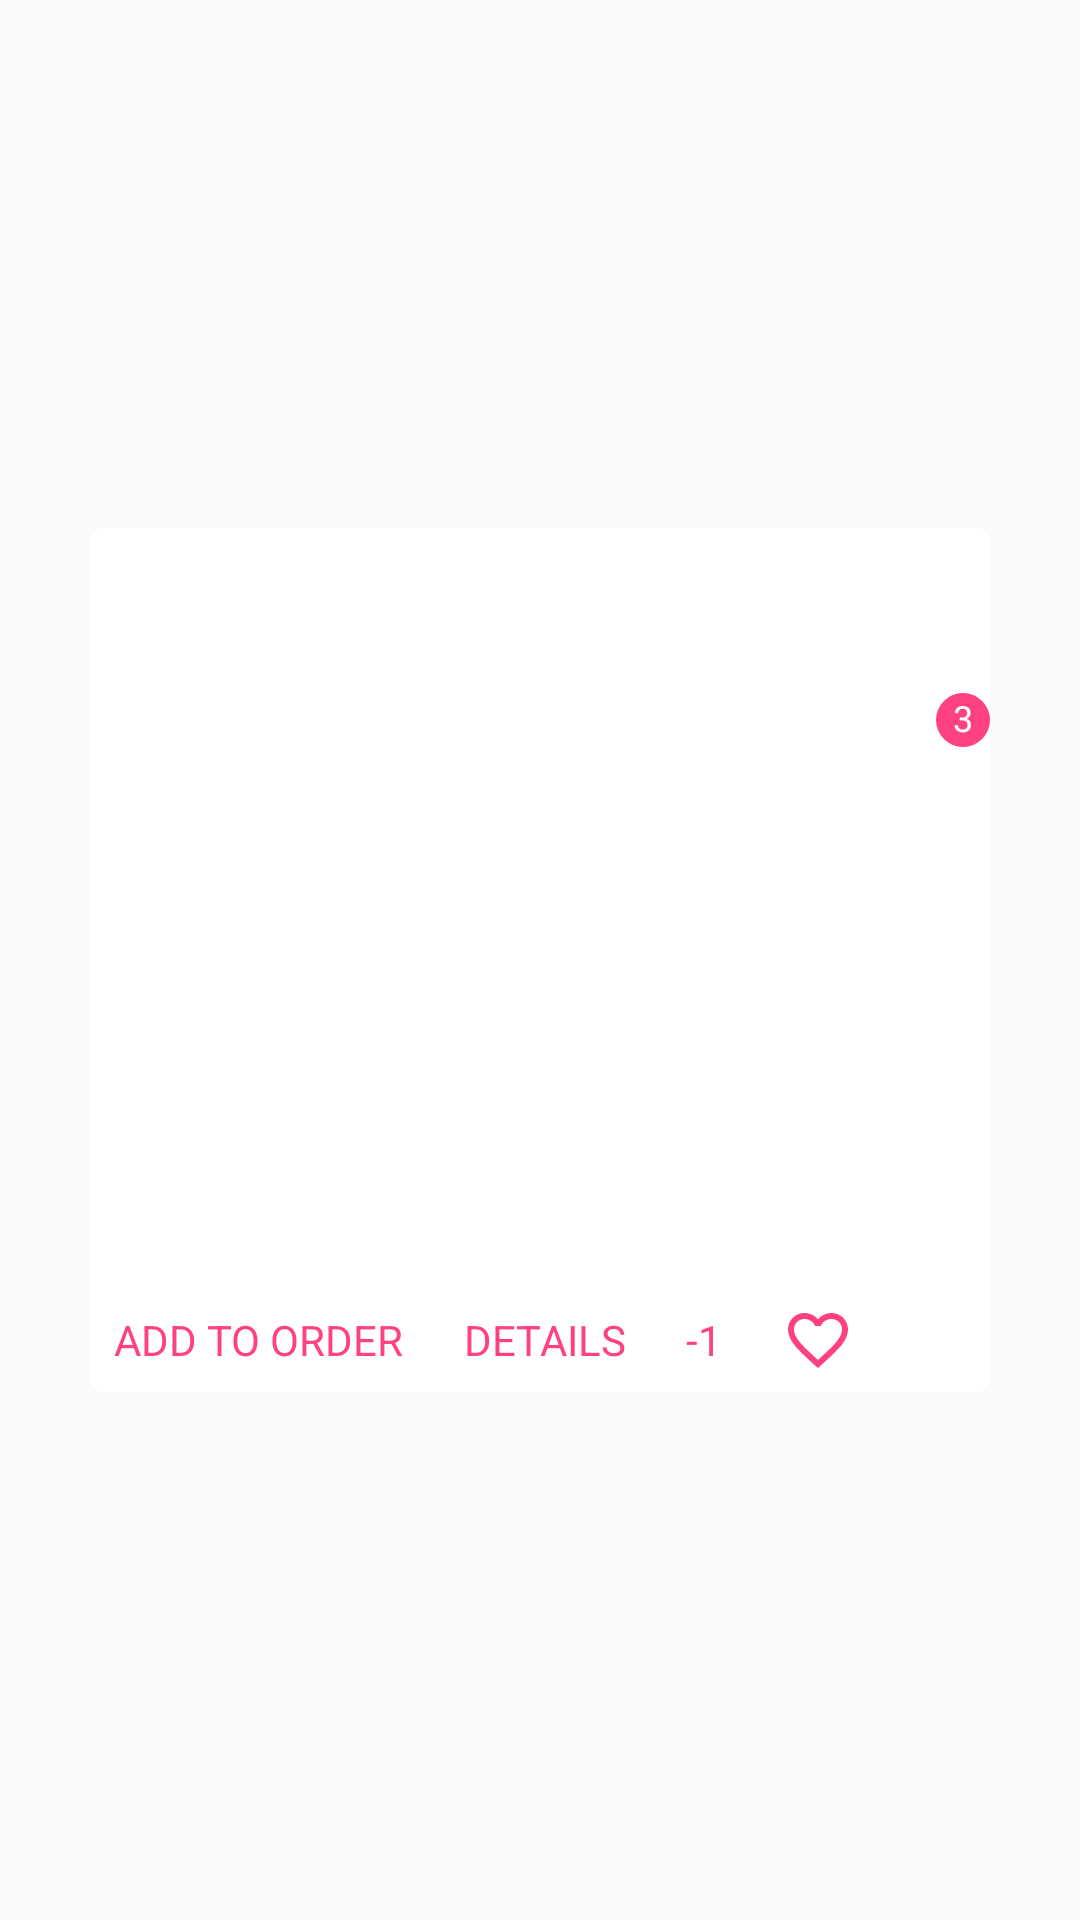

Where to tap for icons on this 1080x1920 app screen, as (x,y):
favorite empty: (818,1340)
